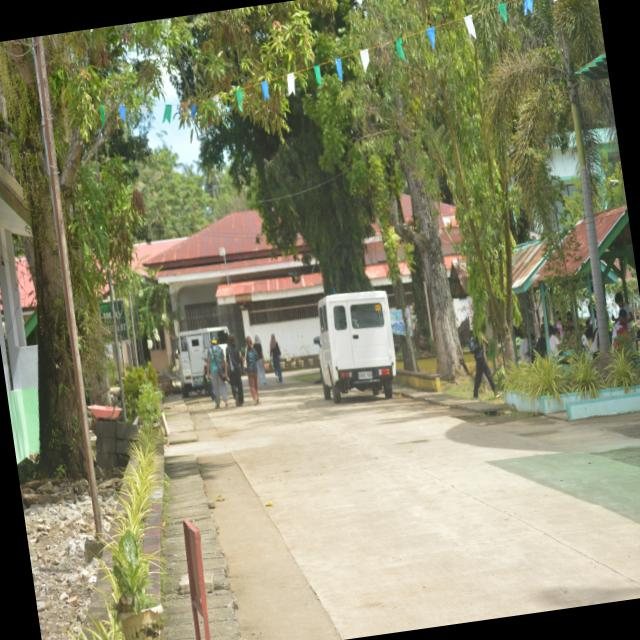person: (469, 334, 495, 399), (205, 339, 227, 408), (226, 334, 243, 405), (244, 337, 258, 405), (253, 335, 265, 384), (269, 334, 281, 383)
